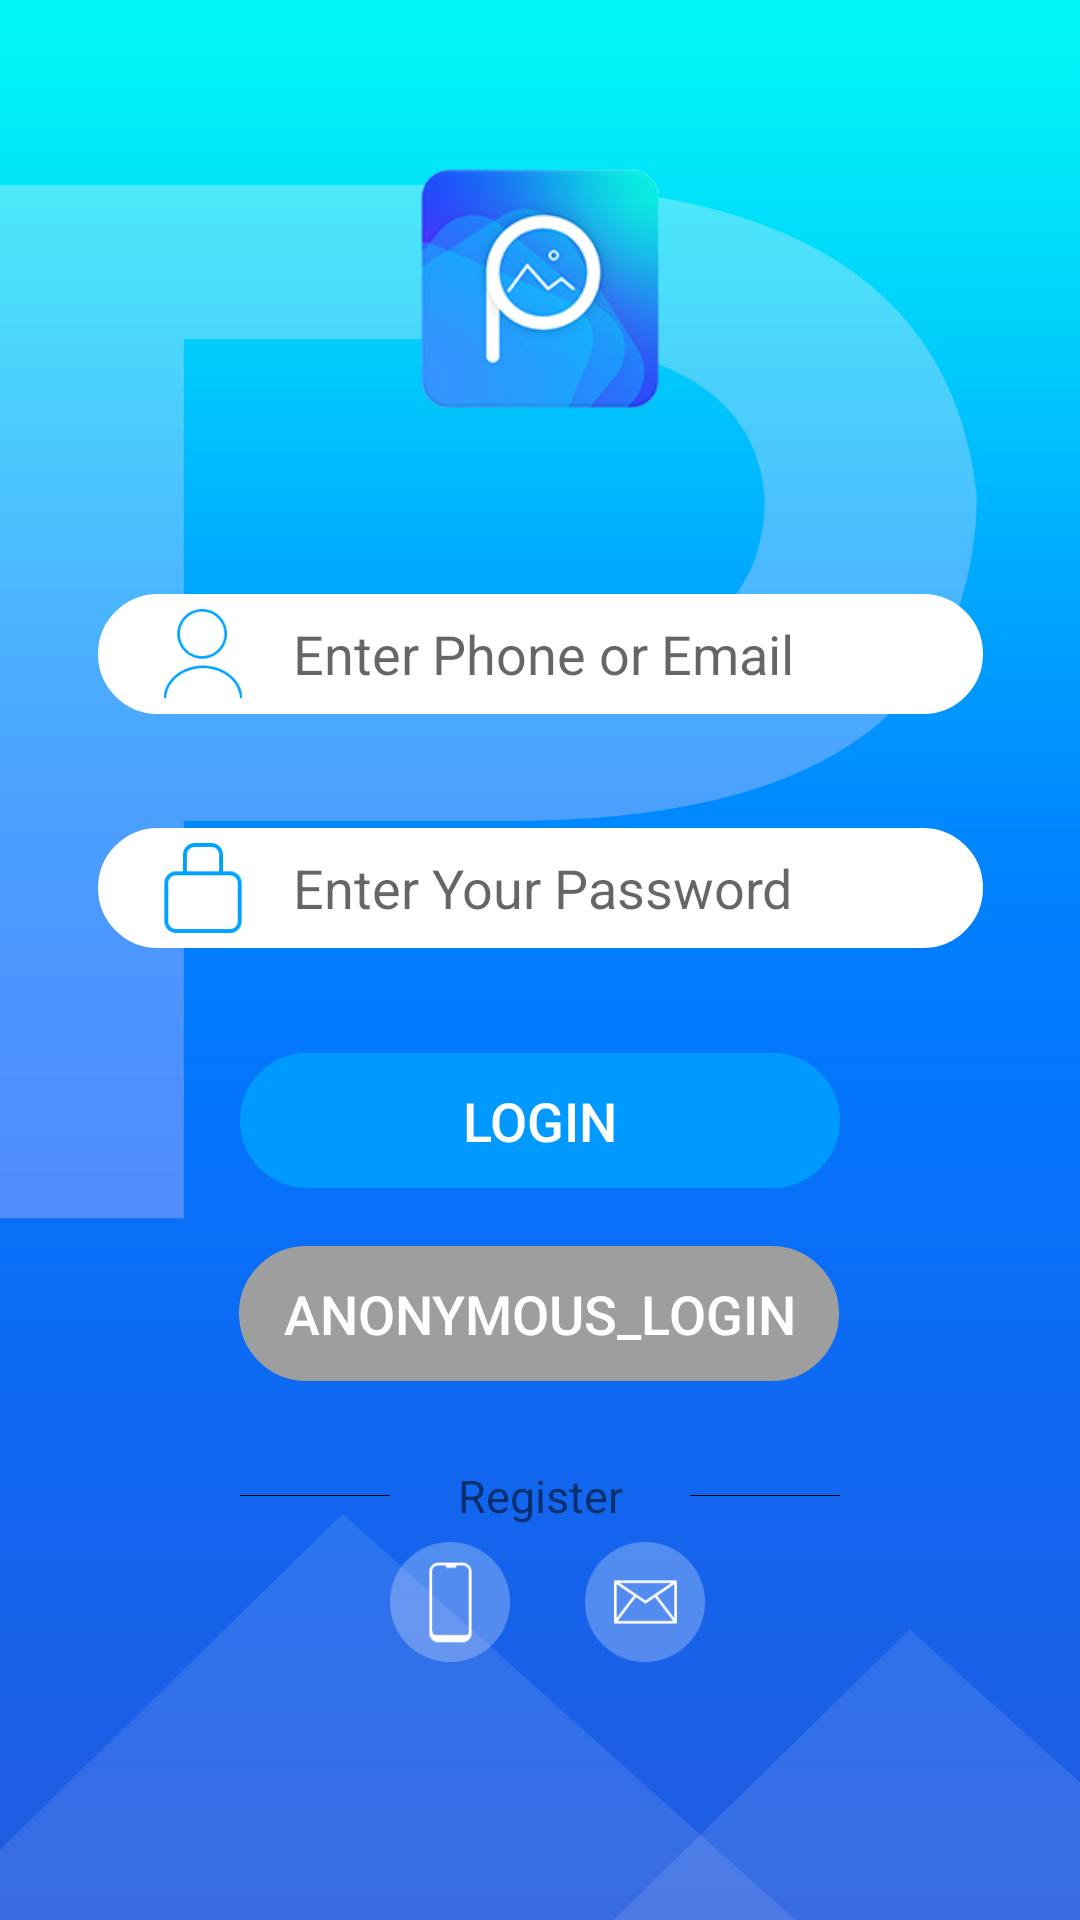

Where to tap for icons on this 1080*1920 app screen, as (x,y):
email regiester: (645,1602)
secret code: (203,888)
user: (203,653)
